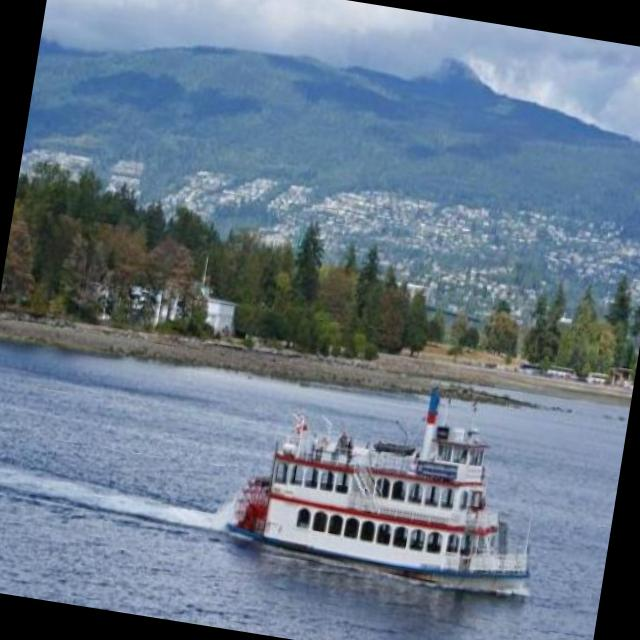boat: (223, 383, 564, 608)
